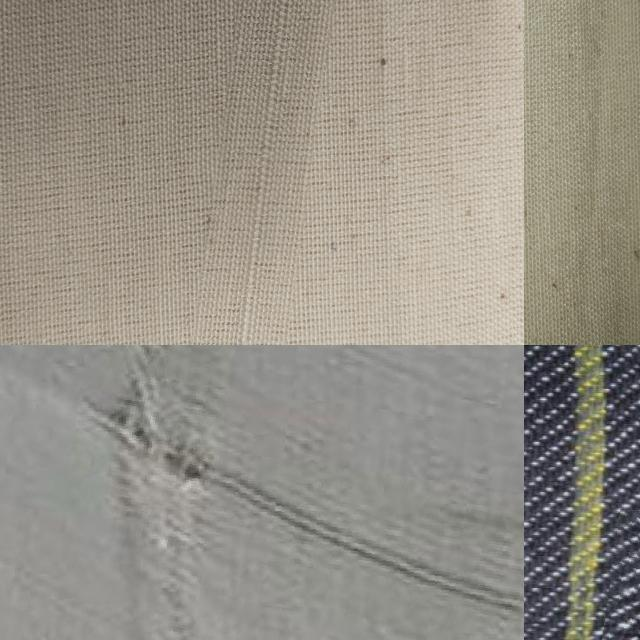Thread_other: (0, 345, 524, 640), (189, 0, 328, 345)
